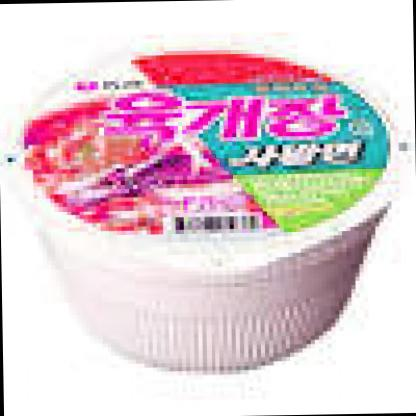Ramen: (10, 50, 392, 383)
